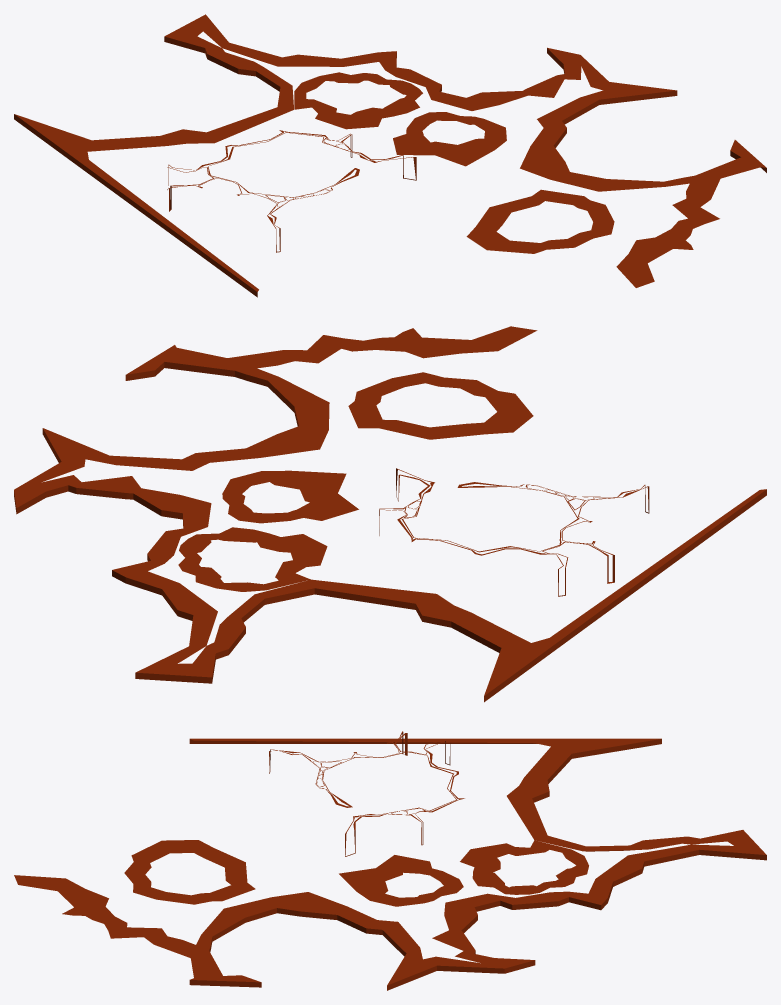
The model's file is Lava_02.FBX.
3 renders of one model, top to bottom at view 1: azimuth 30°, elevation 25°; view 2: azimuth 150°, elevation 25°; view 3: azimuth 270°, elevation 25°, orthographic. The views are drawn at different scales.
Parts seen in each view (by area): view 1: Lava_02; view 2: Lava_02; view 3: Lava_02.
Boxes of the visible parts, x1,y1,x2,y2 form: Lava_02: (14, 14, 766, 297); Lava_02: (14, 326, 766, 702); Lava_02: (14, 731, 766, 990).
Bounding box in the file's own units: 39.31 × 1.71 × 50.68.
